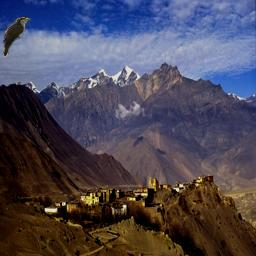Cuckoo: (2, 17, 31, 57)
